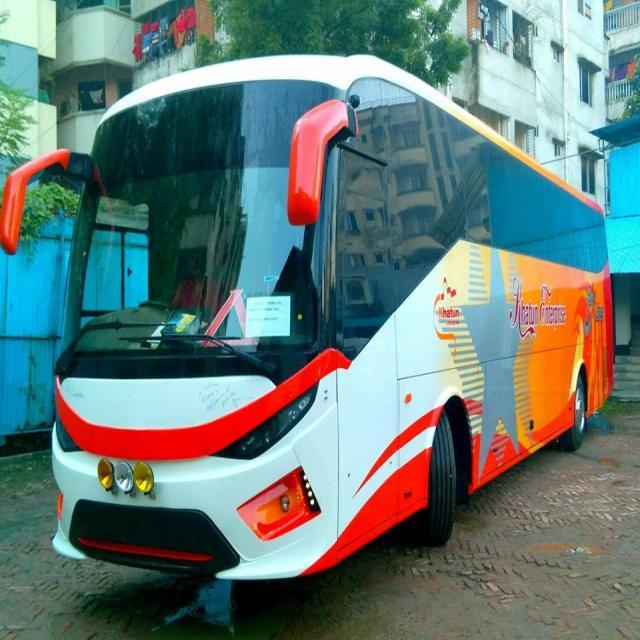bus: (1, 51, 616, 584)
